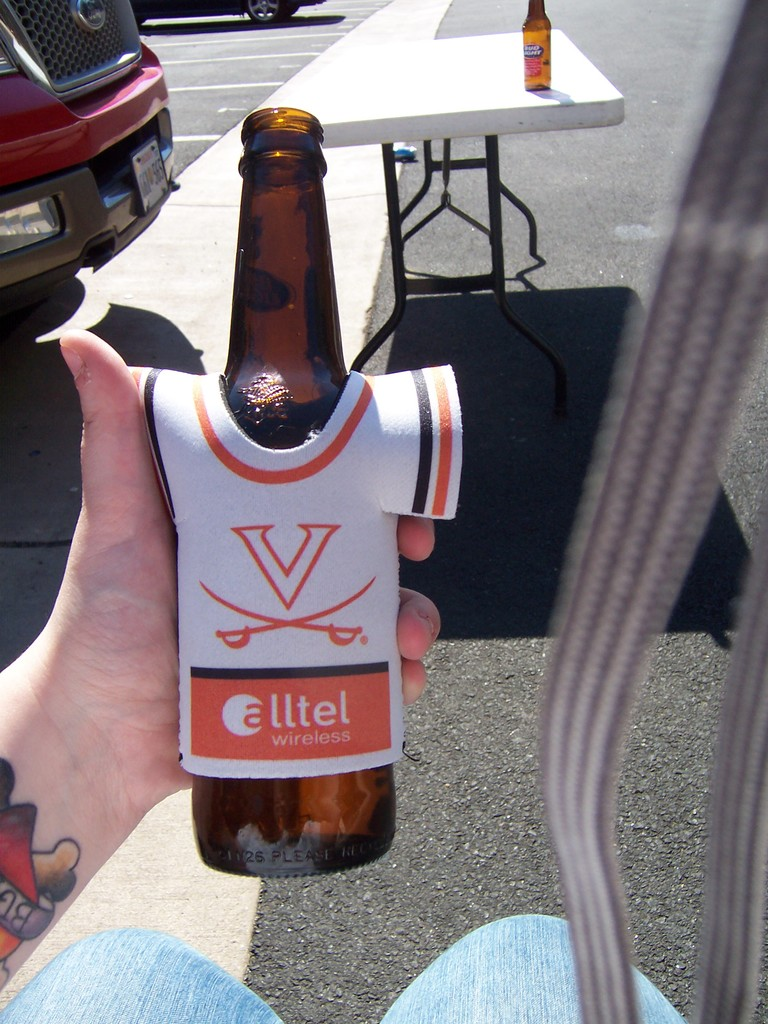Car: (0, 0, 191, 308), (128, 0, 325, 24)
